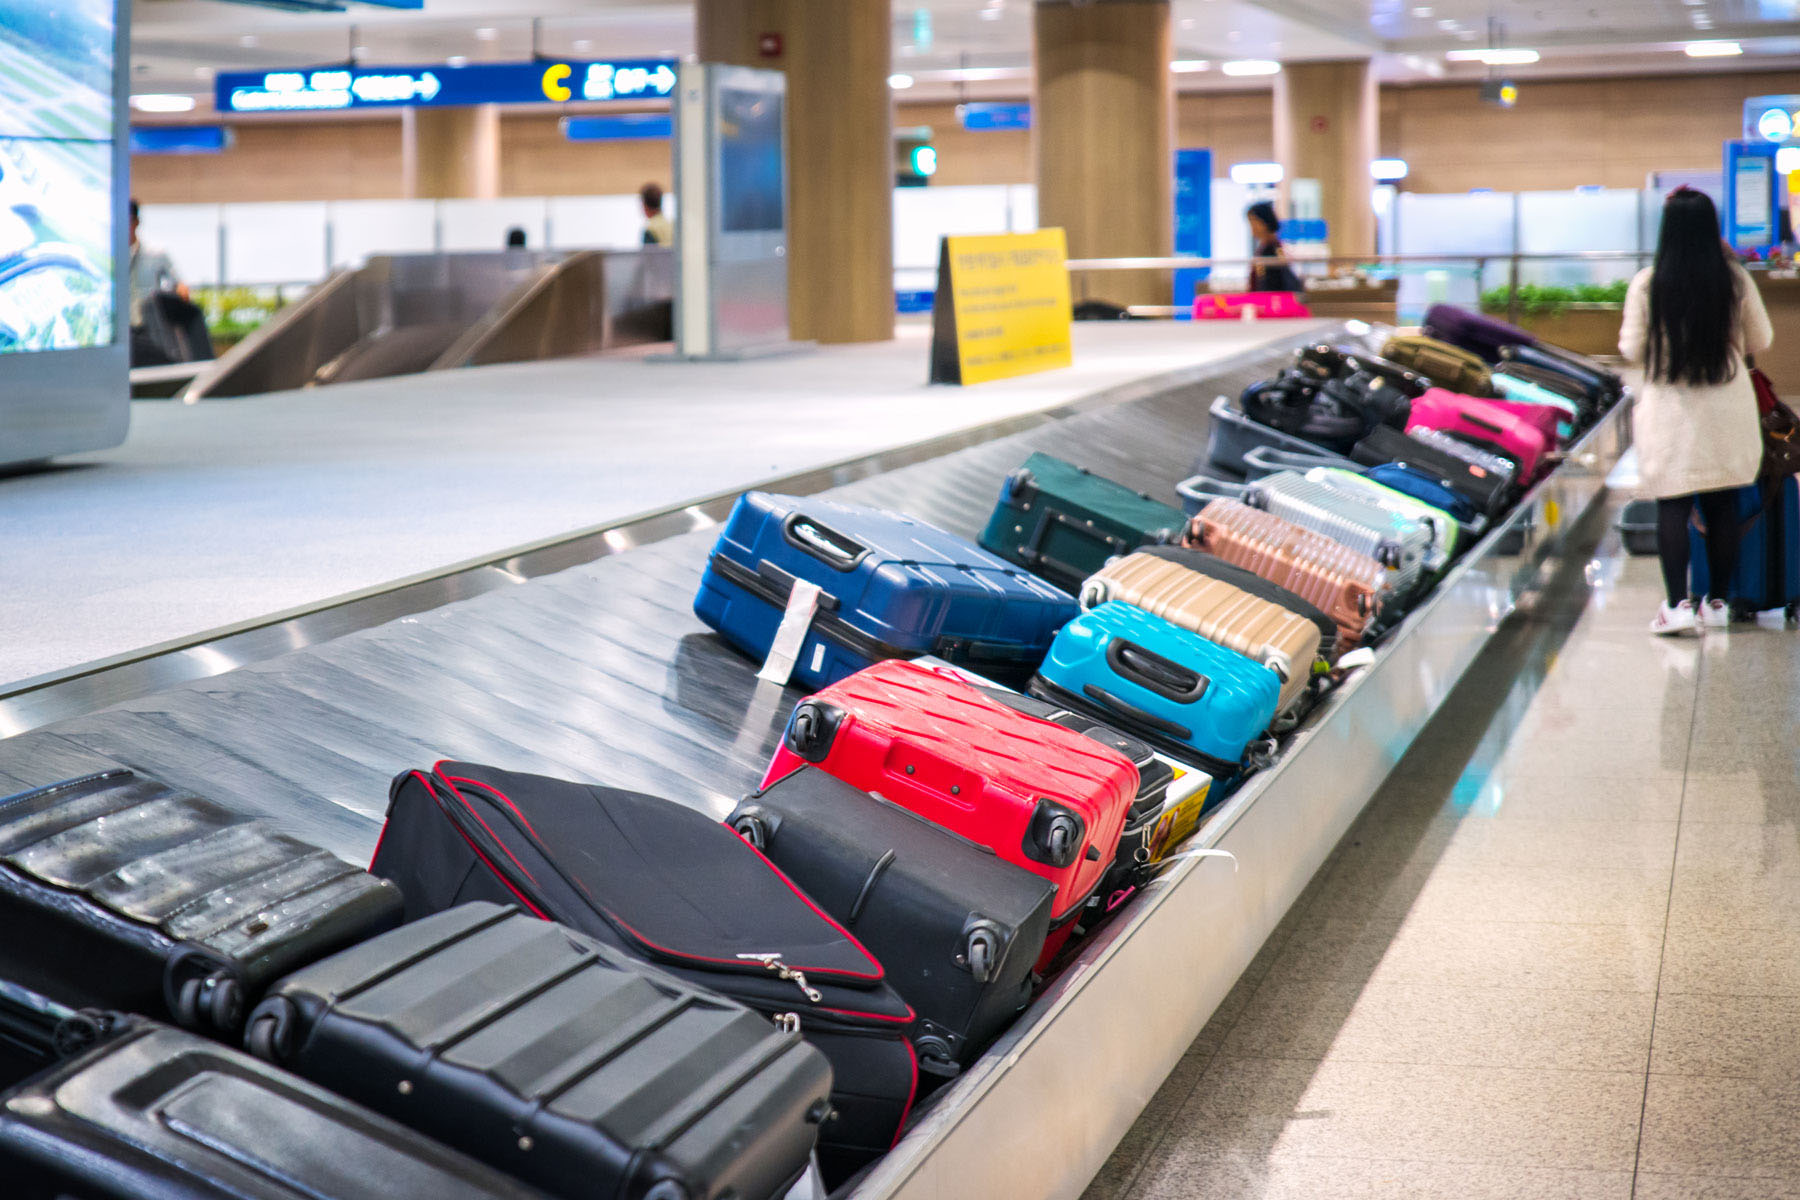luggage: (362, 761, 937, 1182), (757, 642, 1157, 921), (691, 482, 1082, 695), (1033, 598, 1299, 776), (1082, 550, 1339, 724), (1183, 481, 1397, 655), (971, 441, 1196, 602)
people: (1613, 176, 1763, 648)
